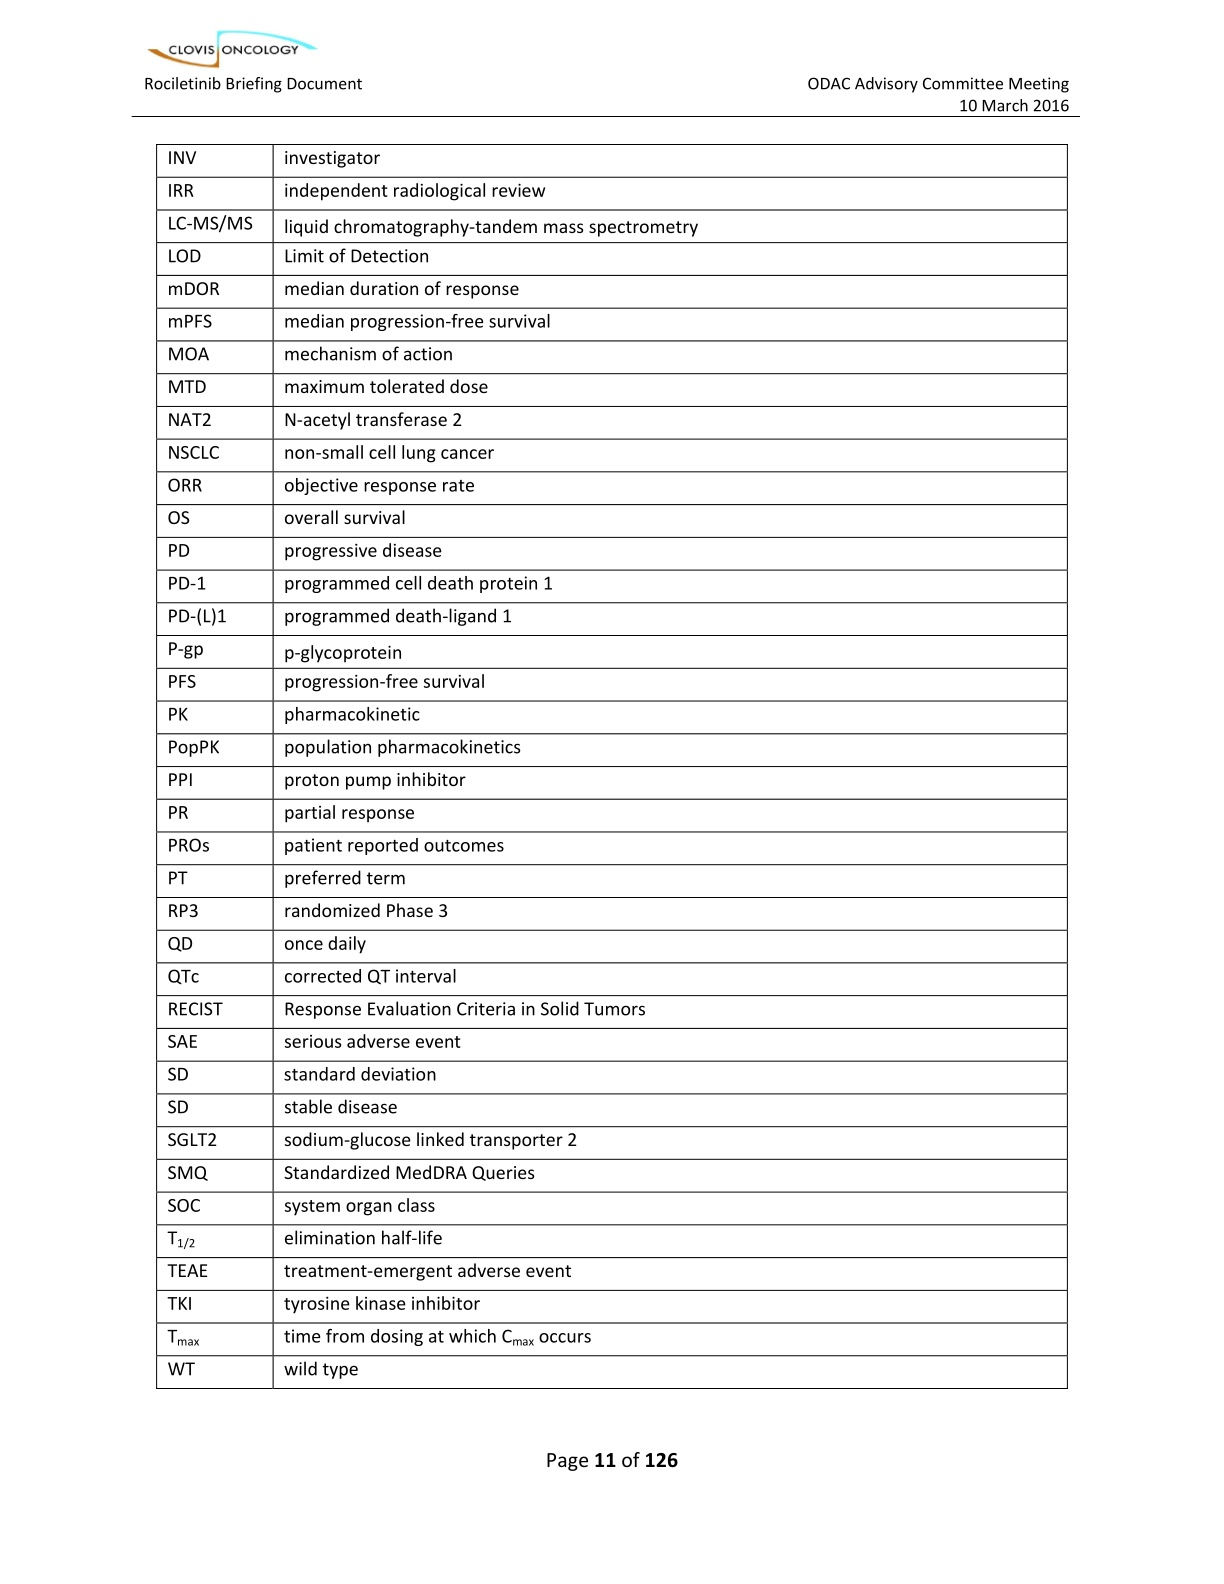full_lined: (154, 143, 1068, 1390)
